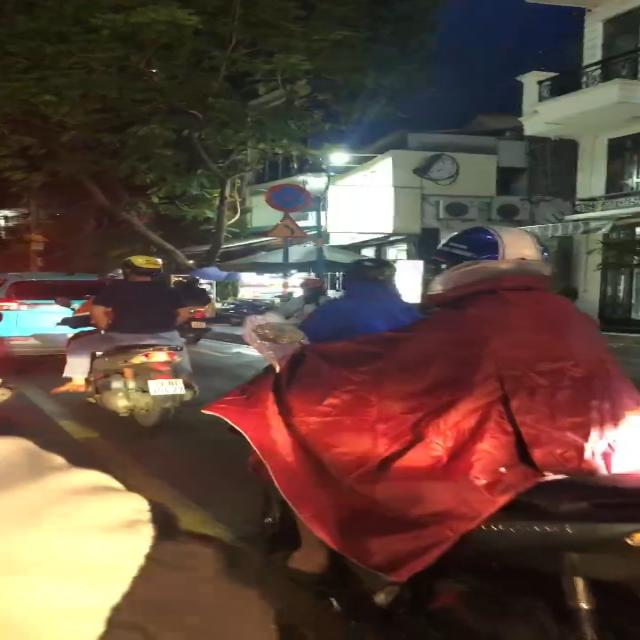Bien bao cho ngoat nguy hiem: (259, 212, 317, 240)
